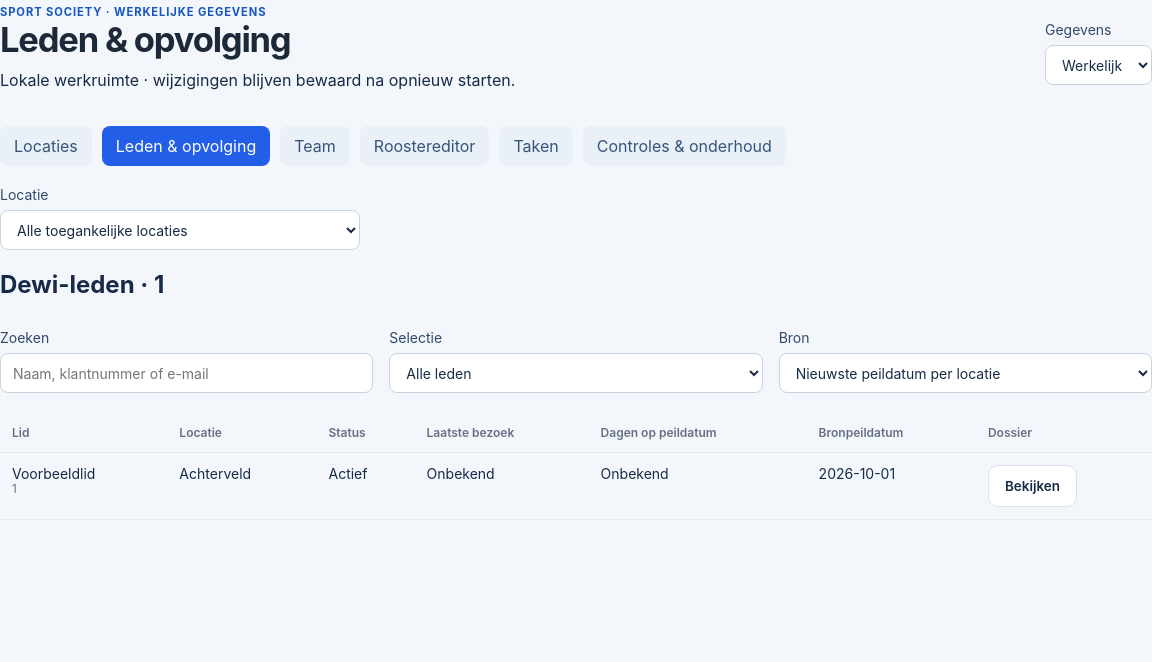
Test: toont onbekende bezoekdata en maakt geen kunstmatige Healthplanner-ledenlijst
The image size is (1152, 662).
Check: the text "Voorbeeldlid" is shown, box [12,465,96,482]
Click the button "Bekijken". click: (1032, 486)
box: [988,465,1077,507]
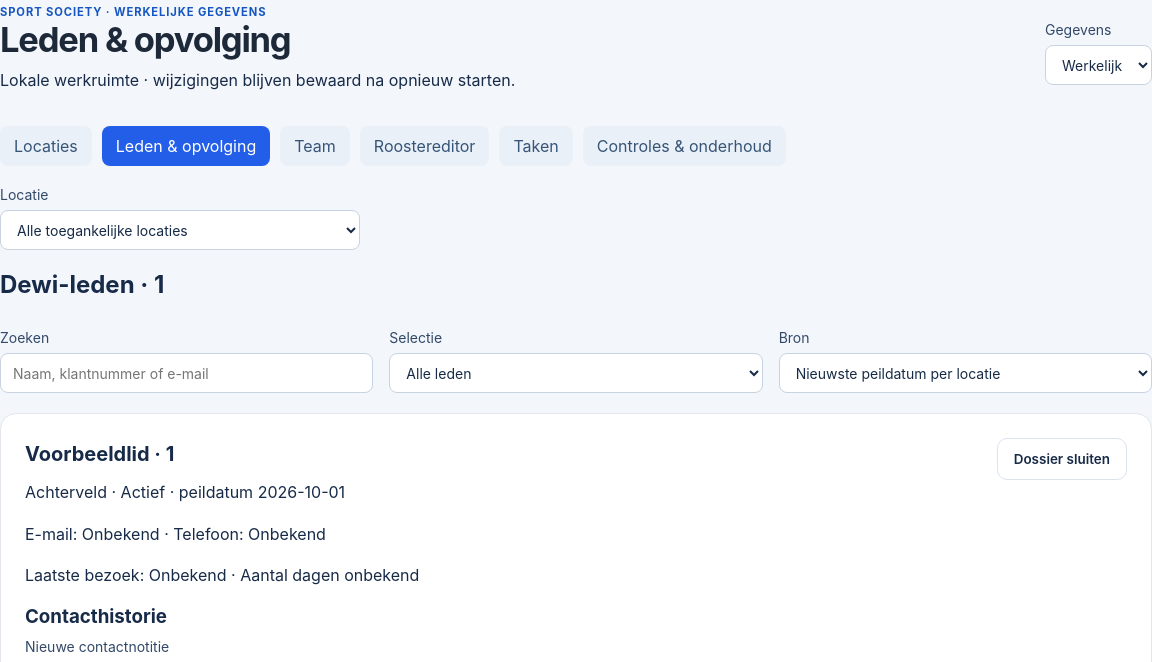
Check: the text "Laatste bezoek: Onbekend · Aantal dagen onbekend" is shown, box [25,565,419,585]
Select "Actief, minstens 30 dagen niet geweest" in the dropdown labelled "Selectie". click: (576, 373)
box: [389,353,763,393]
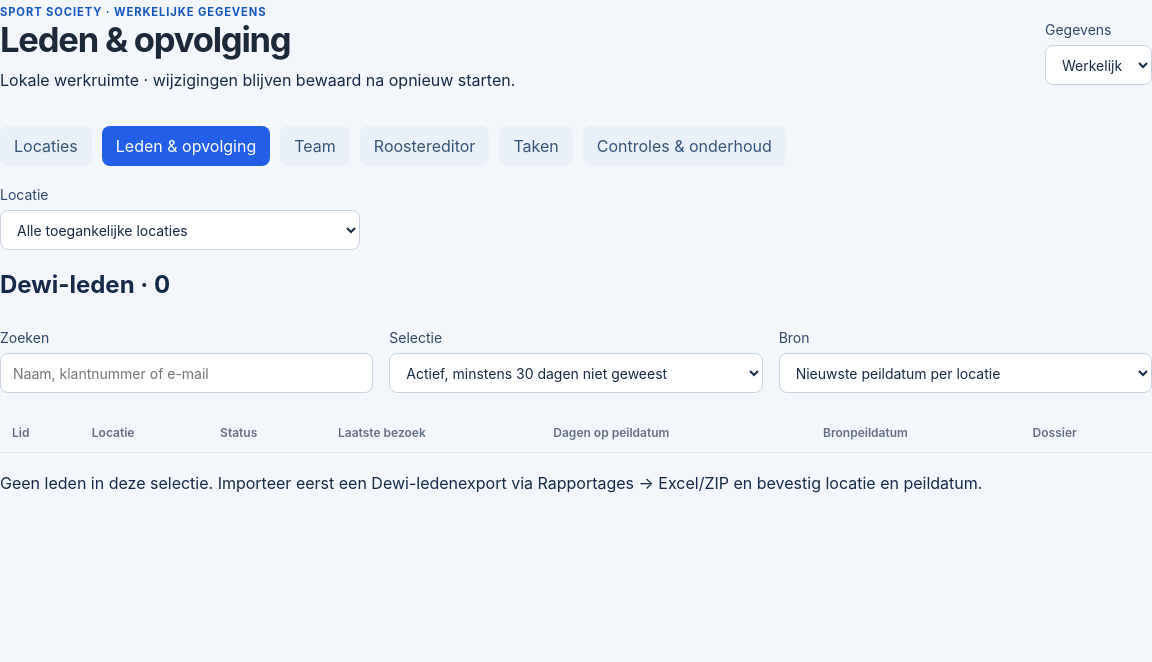
Check: the heading "Voorbeeldlid" is gone
